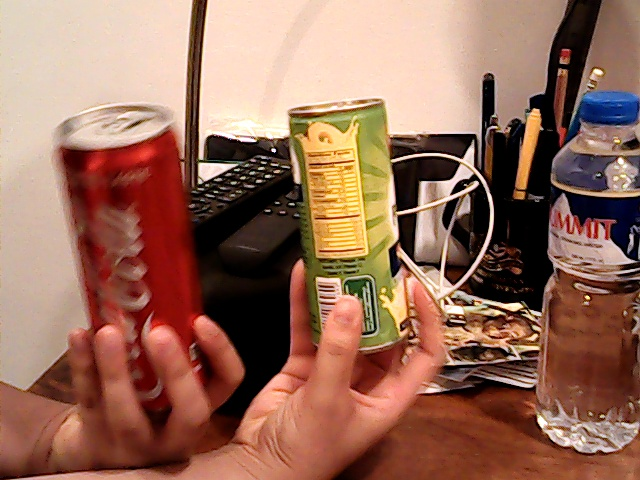Cola: (43, 92, 219, 396)
Pine Juice: (276, 85, 429, 357)
Summit Water: (496, 88, 613, 452)
